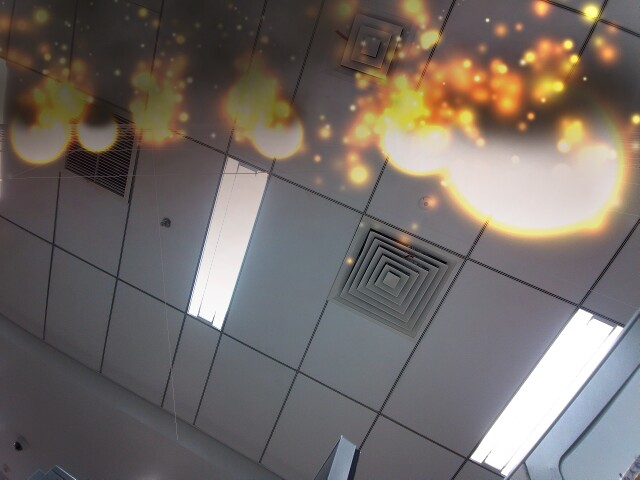fire: (396, 113, 458, 160), (18, 115, 52, 151), (263, 115, 294, 147), (82, 116, 106, 143)
firebig: (474, 106, 639, 216)
